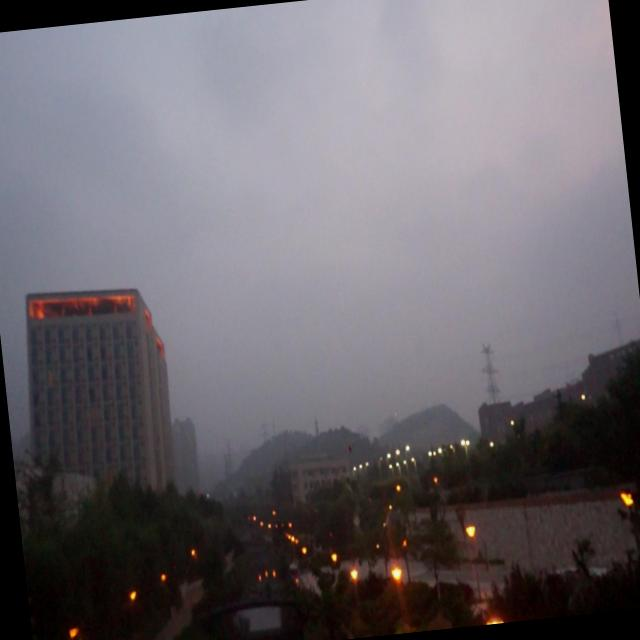drone: (340, 437, 357, 456)
